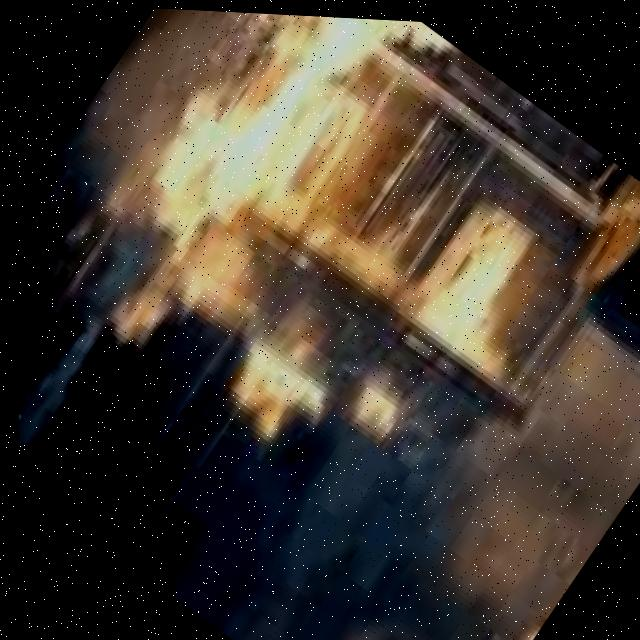Fire: (129, 5, 414, 294)
Smoke: (193, 345, 613, 640), (11, 0, 324, 286)
